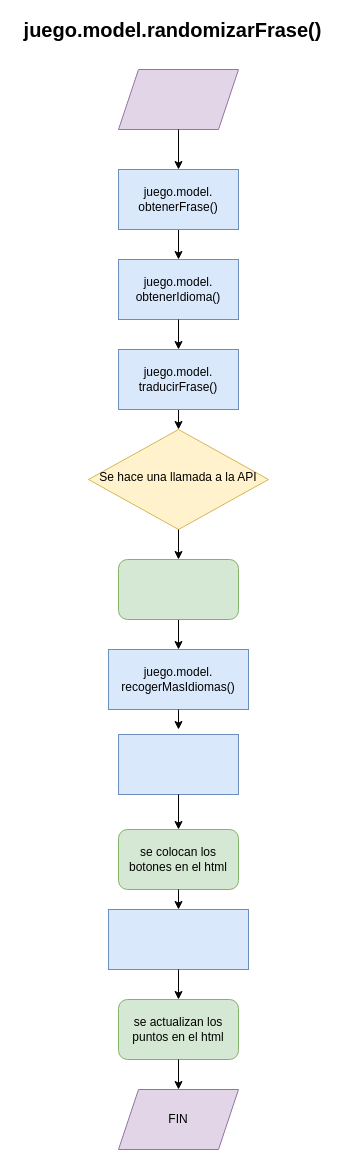
The diagram is 344 pixels wide and 1167 high, and some of its shapes have lost their labels. The centre of each missing label's shape, as x and y in pixels:
"INICIO" goes at point 178,99.
"juego.model. colocarBotones()" goes at point 178,764.
"juego.model. jugador.definirPuntos()" goes at point 178,939.
"se muestra la frase traducida en el html" goes at point 178,589.
